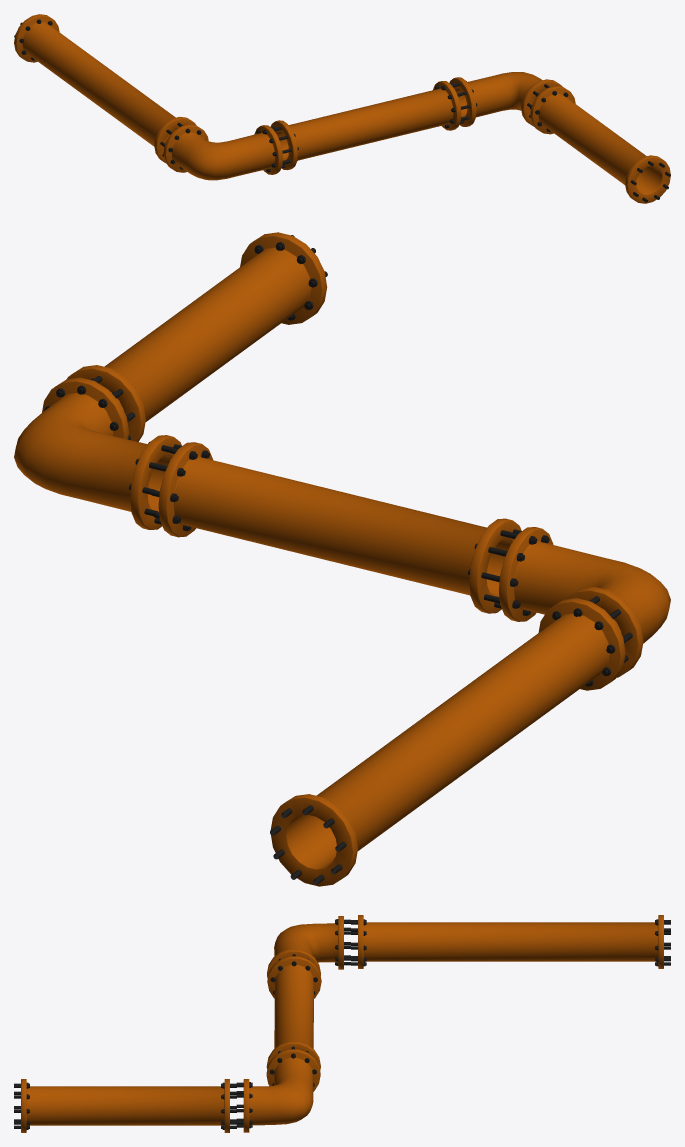
Rendered from IND_PIPE_5.FBX.
The picture shows the model from 3 angles, top to bottom: view 1: azimuth 30°, elevation 25°; view 2: azimuth 150°, elevation 25°; view 3: azimuth 270°, elevation 25°; orthographic projection. The views are drawn at different scales.
Visible parts, largest first — view 1: Cylinder028, Pipe_5; view 2: Cylinder028; view 3: Cylinder028, Pipe_5.
Boxes of the visible parts, box(x1,y1,x2,y2) form: Cylinder028: box(14, 14, 670, 203); Pipe_5: box(530, 87, 670, 202); Cylinder028: box(14, 232, 670, 886); Cylinder028: box(21, 915, 663, 1132); Pipe_5: box(14, 1082, 236, 1129).
Size of the model in its own units: 1611 by 198 by 2395.
